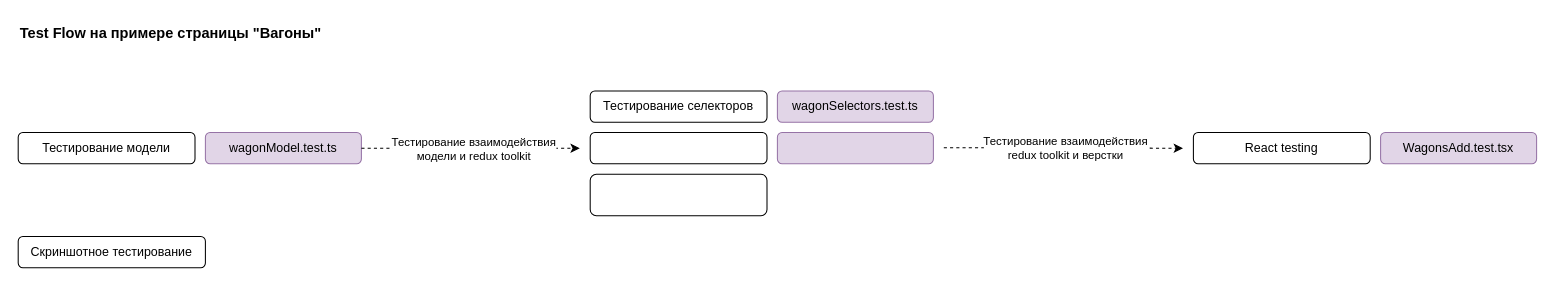
This 1555x286 diagram has some shape labels left out. The shapes that lost their labels are listed below. From the top down, each one's box as (x1, y1, x2, y2) in pixels, then its label:
(589, 132, 767, 164): Тестирование экшенов
(776, 132, 933, 164): wagonSlice.test.ts
(589, 173, 767, 216): Тестирование асинхронной логики
